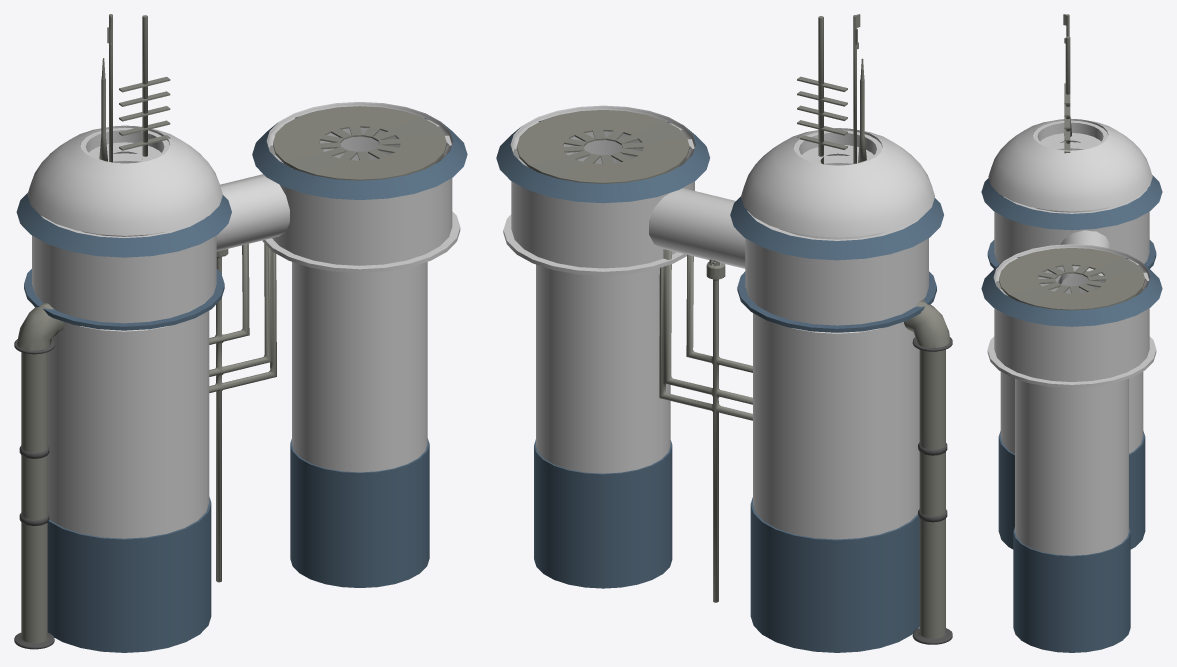
The model's file is bld_industry_doubletower.fbx.
3 views of the same model, side by side, from view 1: azimuth 30°, elevation 25°; view 2: azimuth 150°, elevation 25°; view 3: azimuth 270°, elevation 25° (orthographic). The views are drawn at different scales.
Parts seen in each view (by area): view 1: bld_industry_doubletower; view 2: bld_industry_doubletower; view 3: bld_industry_doubletower.
Part boxes in pixels (bbox=[...]): bld_industry_doubletower: bbox=[14, 14, 467, 652]; bld_industry_doubletower: bbox=[496, 14, 952, 652]; bld_industry_doubletower: bbox=[981, 14, 1162, 652].
Size of the model in its own units: 942 by 1246 by 400.
